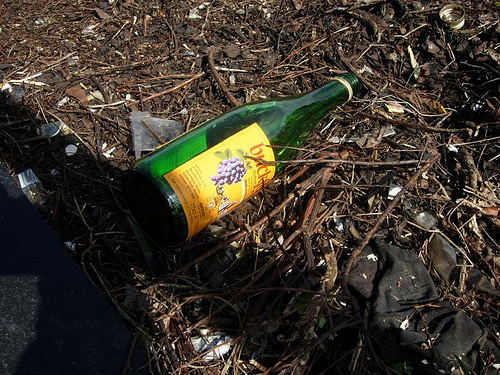litter: (123, 71, 360, 244), (186, 329, 231, 363), (442, 3, 468, 31), (37, 120, 68, 137), (18, 172, 43, 192)
